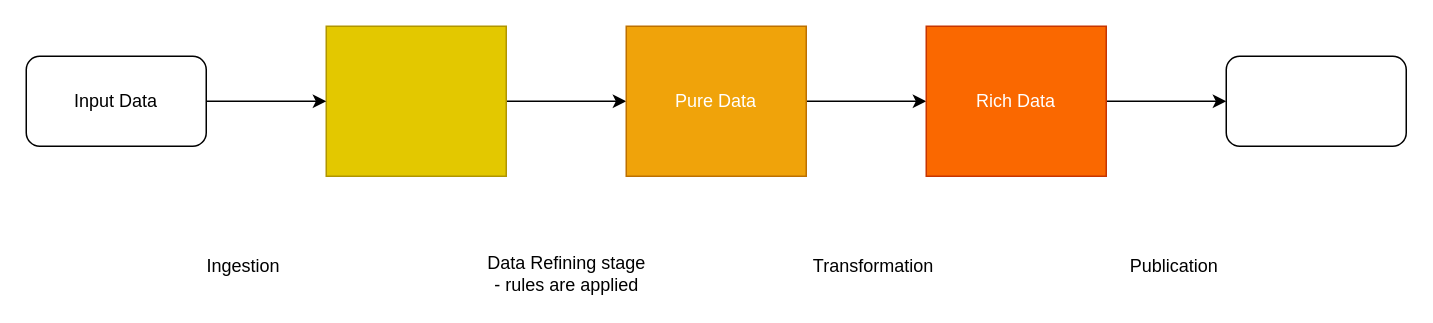
The diagram is 1433 pixels wide and 323 high, and some of its shapes have lost their labels. The shapes that lost their labels are listed below. From the top down, each one's box as (x1, y1, x2, y2) in pixels, then its label:
(325, 25, 506, 176): Raw Data
(1225, 55, 1406, 146): Actionable Data
